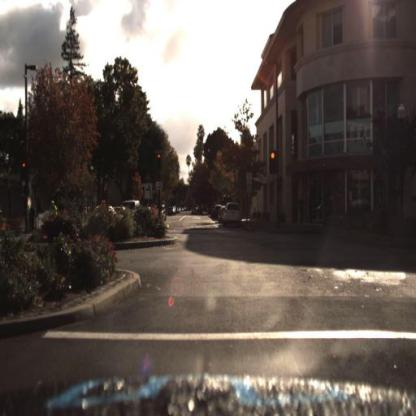biker: (45, 198, 62, 219), (48, 199, 58, 230)
car: (228, 201, 244, 229), (158, 205, 168, 220)
pedestrian: (297, 194, 307, 226), (298, 195, 305, 225)
trafficLight: (21, 157, 28, 177)
trafficLight-Red: (155, 151, 163, 177), (269, 150, 277, 176), (156, 145, 163, 166)
